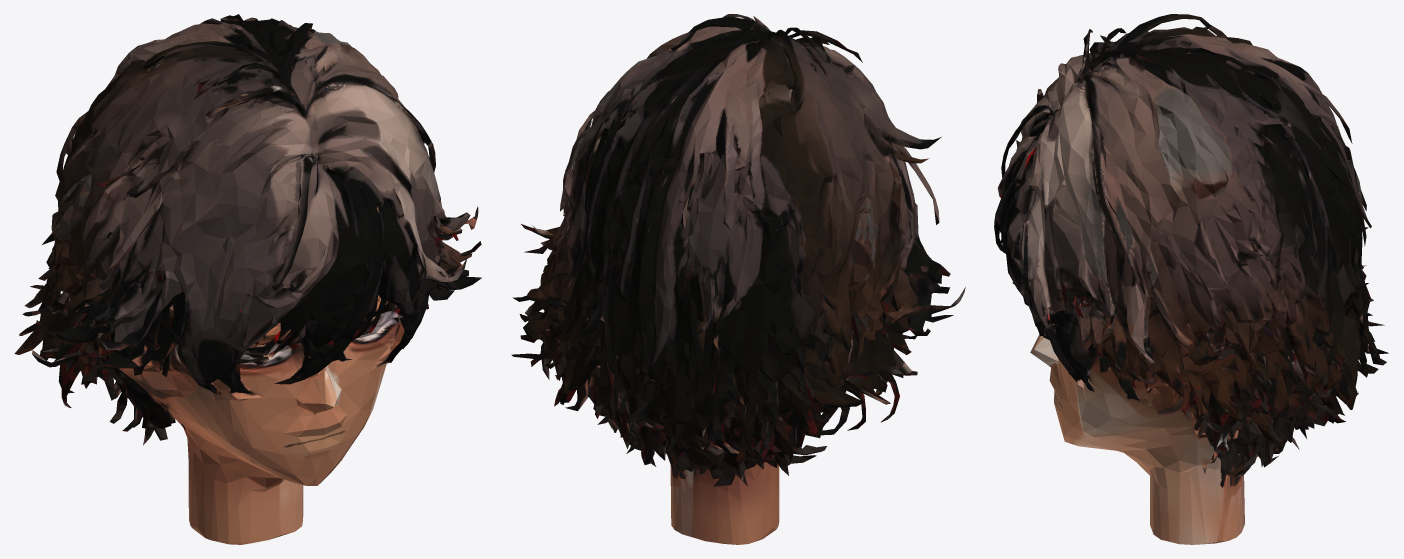
Rendered from side_mobleader_repaired_atlas.glb.
3 views of the same model, side by side, from view 1: azimuth 30°, elevation 25°; view 2: azimuth 150°, elevation 25°; view 3: azimuth 270°, elevation 25° (orthographic). The views are drawn at different scales.
Parts seen in each view (by area): view 1: temp_mesh.ply; view 2: temp_mesh.ply; view 3: temp_mesh.ply.
Part boxes in pixels (x1,y1,x2,y2): temp_mesh.ply: (14, 14, 481, 544); temp_mesh.ply: (511, 14, 965, 544); temp_mesh.ply: (994, 14, 1388, 544).
Size of the model in its own units: 1.71 by 1.97 by 1.47.
1 material, 1 textured.
